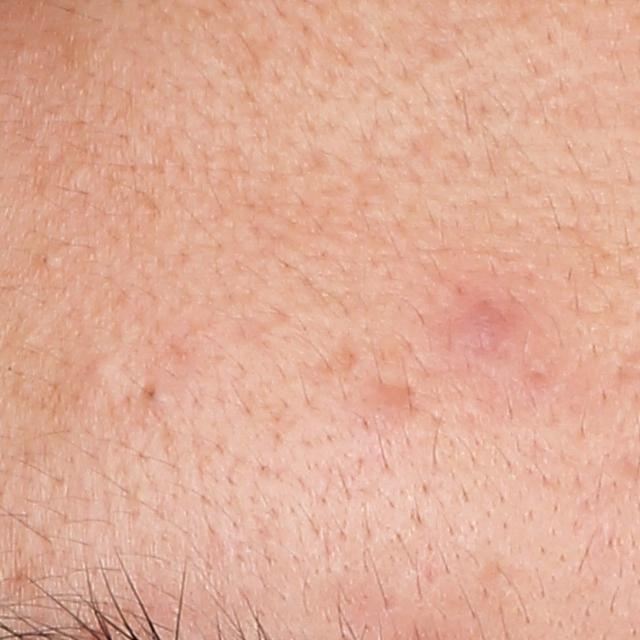atrophic_scar: (361, 379, 417, 416)
comedo: (77, 355, 120, 394), (29, 248, 67, 274), (143, 381, 168, 407)
papule: (455, 298, 509, 352)
